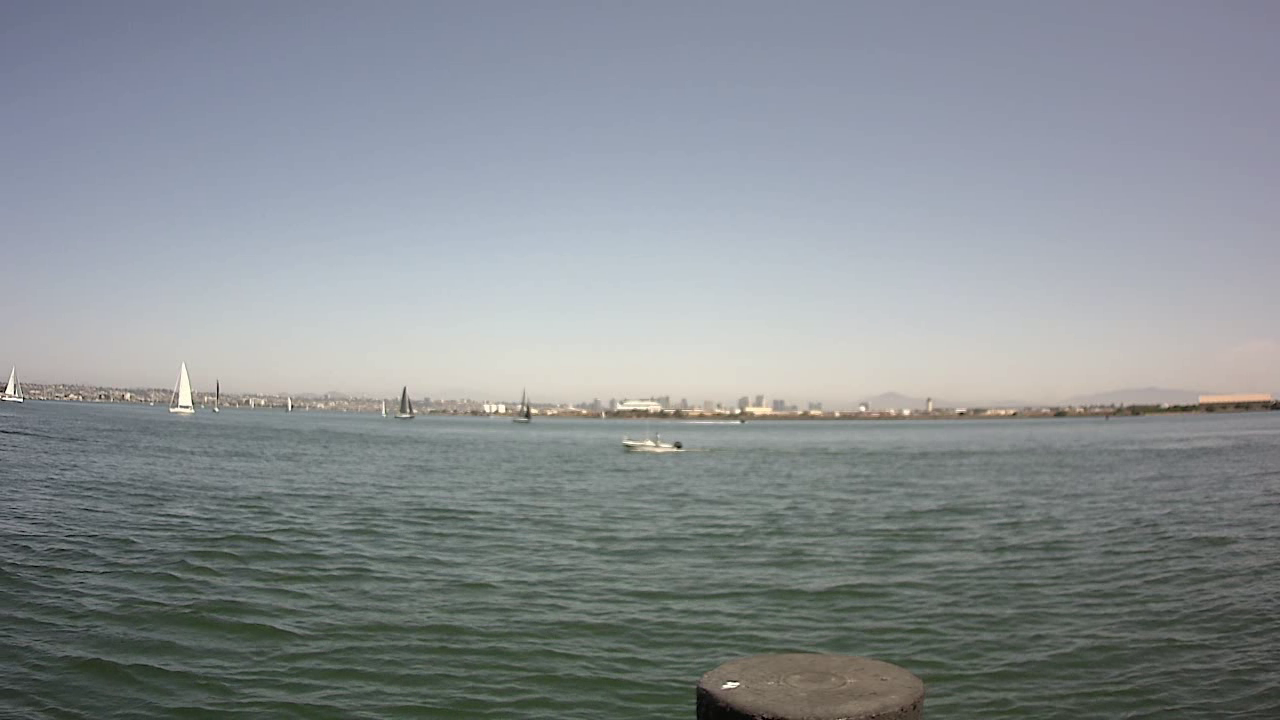target: (616, 422, 694, 454)
